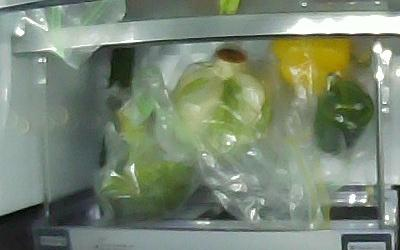broccoli_vinyl: (102, 106, 192, 218)
cucumber_vinyl: (97, 45, 135, 179)
lettuce_vinyl: (173, 46, 273, 154)
paprika_vinyl: (268, 37, 353, 96), (315, 81, 373, 156)
